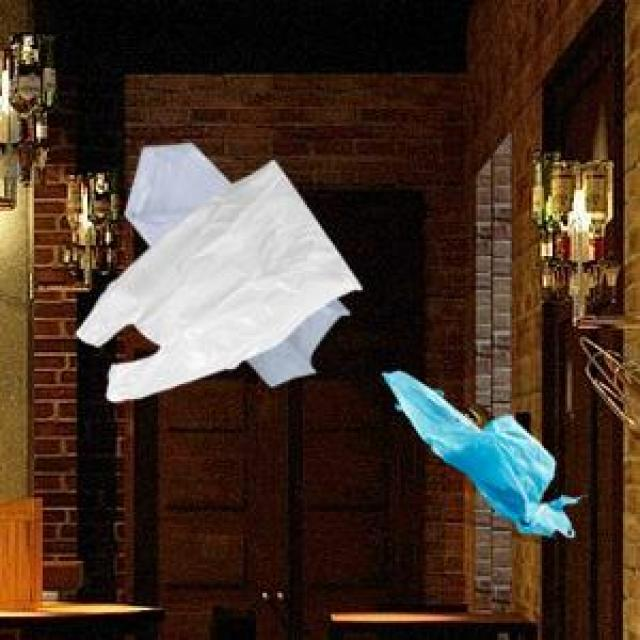plastic: (72, 115, 593, 578)
